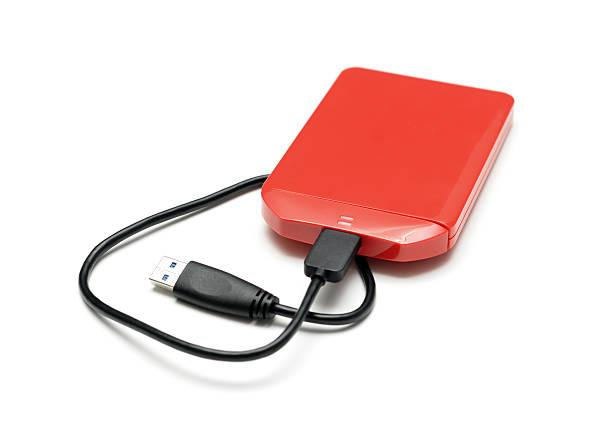HDD: (261, 67, 516, 264)
